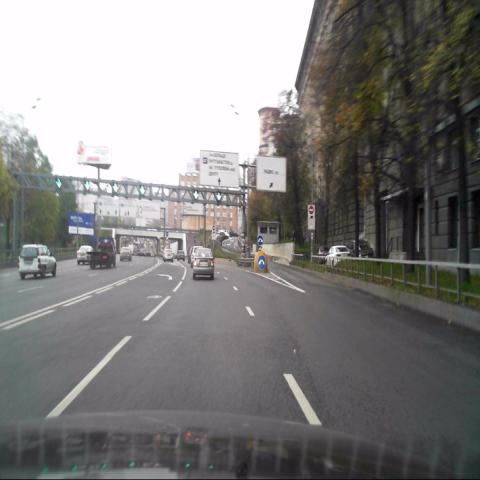4_2_3: (258, 256, 266, 270), (257, 233, 265, 246)
